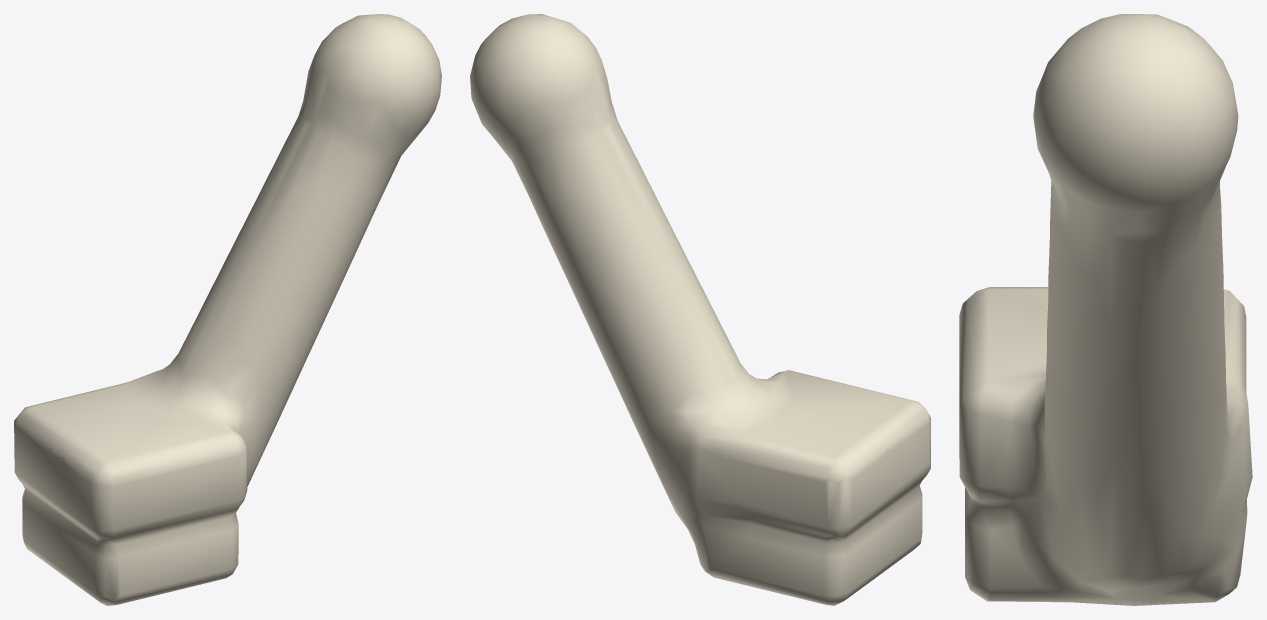
Rendered from tarsus_r.glb.
3 renders of one model, left to right at view 1: azimuth 30°, elevation 25°; view 2: azimuth 150°, elevation 25°; view 3: azimuth 270°, elevation 25°, orthographic. The views are drawn at different scales.
Visible parts, largest first — view 1: geometry_0; view 2: geometry_0; view 3: geometry_0.
Boxes of the visible parts, bbox=[...] form: geometry_0: bbox=[14, 14, 441, 605]; geometry_0: bbox=[470, 14, 930, 605]; geometry_0: bbox=[959, 14, 1252, 605].
Bounding box in the file's own units: 0.2512 × 0.2924 × 0.1063.
